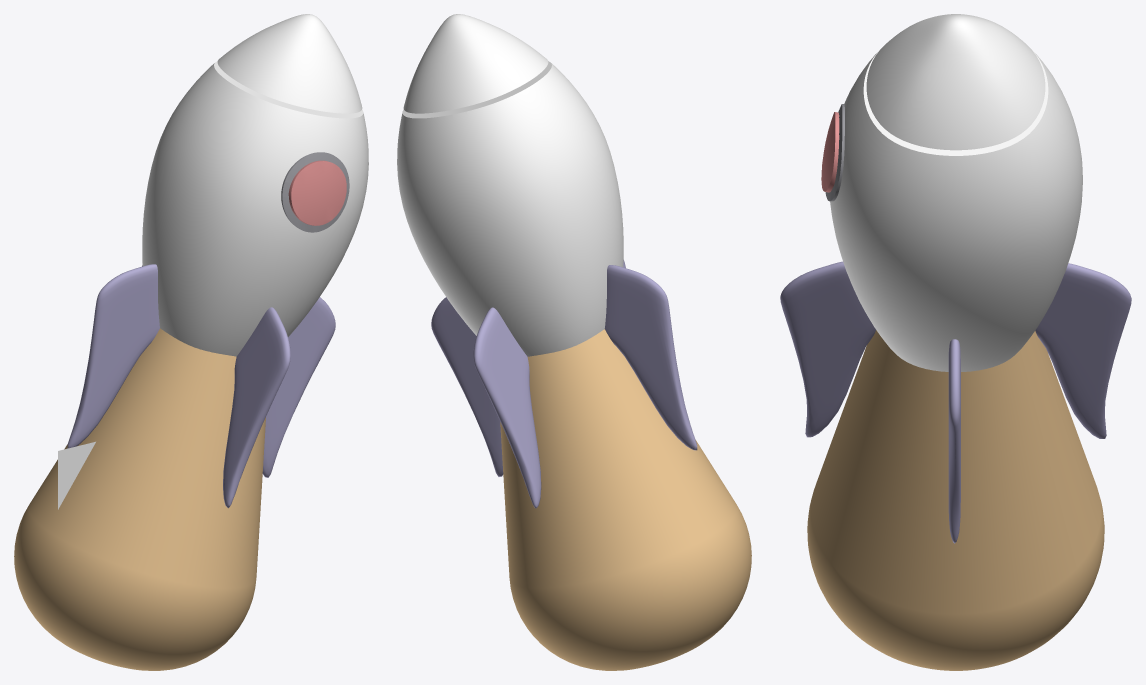
Rendered from toy_rocket.glb.
The picture shows the model from 3 angles, left to right: view 1: azimuth 30°, elevation 25°; view 2: azimuth 150°, elevation 25°; view 3: azimuth 270°, elevation 25°; orthographic projection. The views are drawn at different scales.
Parts seen in each view (by area): view 1: Cylinder, Main fuselage, object 14, object 13, object 12, Window, Window edge, download.png; view 2: Cylinder, Main fuselage, object 14, object 15, object 12; view 3: Cylinder, Main fuselage, object 15, object 13, object 12, Window, Window edge.
Part boxes in pixels (x1,y1,x2,y2): Cylinder: (14,328,265,670); Main fuselage: (142,14,368,356); object 14: (67,264,159,448); object 13: (223,307,290,508); object 12: (262,297,335,477); Window: (288,160,346,225); Window edge: (281,152,349,232); download.png: (58,441,95,509); Cylinder: (500,329,751,670); Main fuselage: (397,14,623,356); object 14: (604,265,697,450); object 15: (473,307,541,508); object 12: (431,297,503,476); Cylinder: (807,330,1104,670); Main fuselage: (830,14,1082,371); object 15: (1035,263,1131,438); object 13: (780,261,875,437); object 12: (948,339,960,543); Window: (821,112,839,192); Window edge: (825,104,844,201).
Size of what is drawn, in the model's own units: 3.53 by 6.31 by 2.75.
